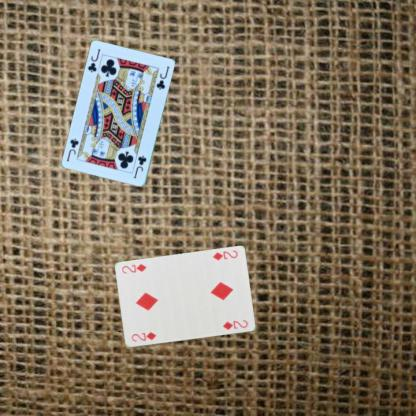2d: (129, 329, 157, 344), (210, 248, 239, 262)
Jc: (131, 153, 148, 180), (86, 46, 102, 74)
